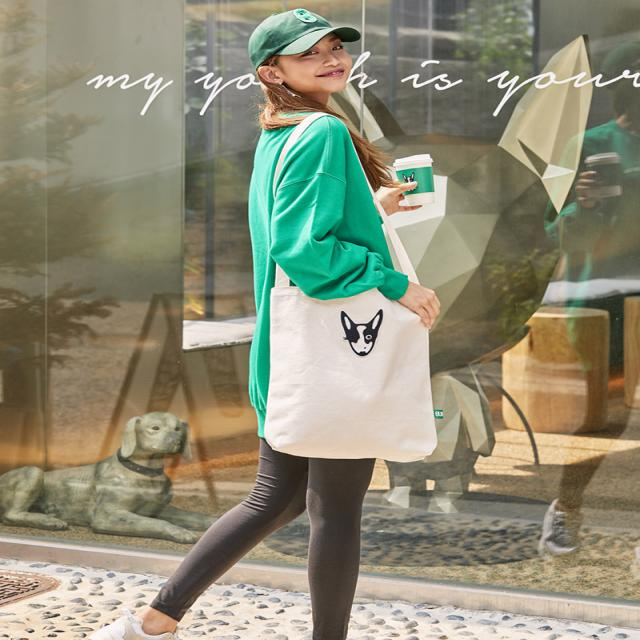ecobag: (247, 99, 460, 476)
